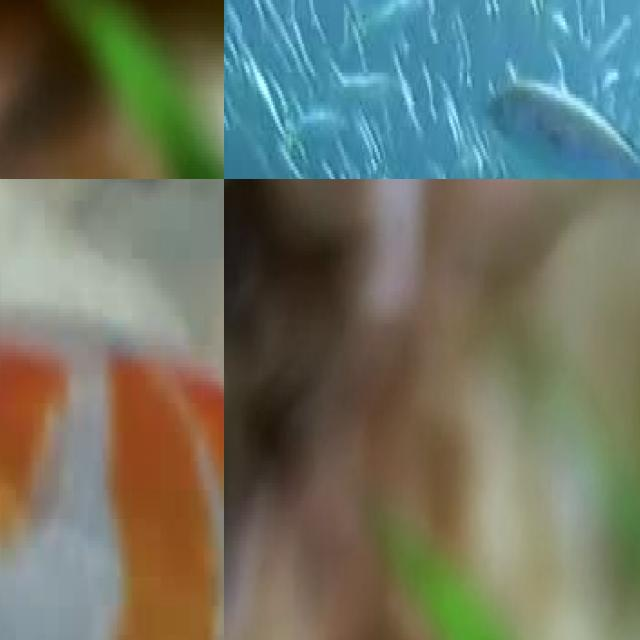fish: (0, 179, 224, 640), (0, 0, 224, 179)
